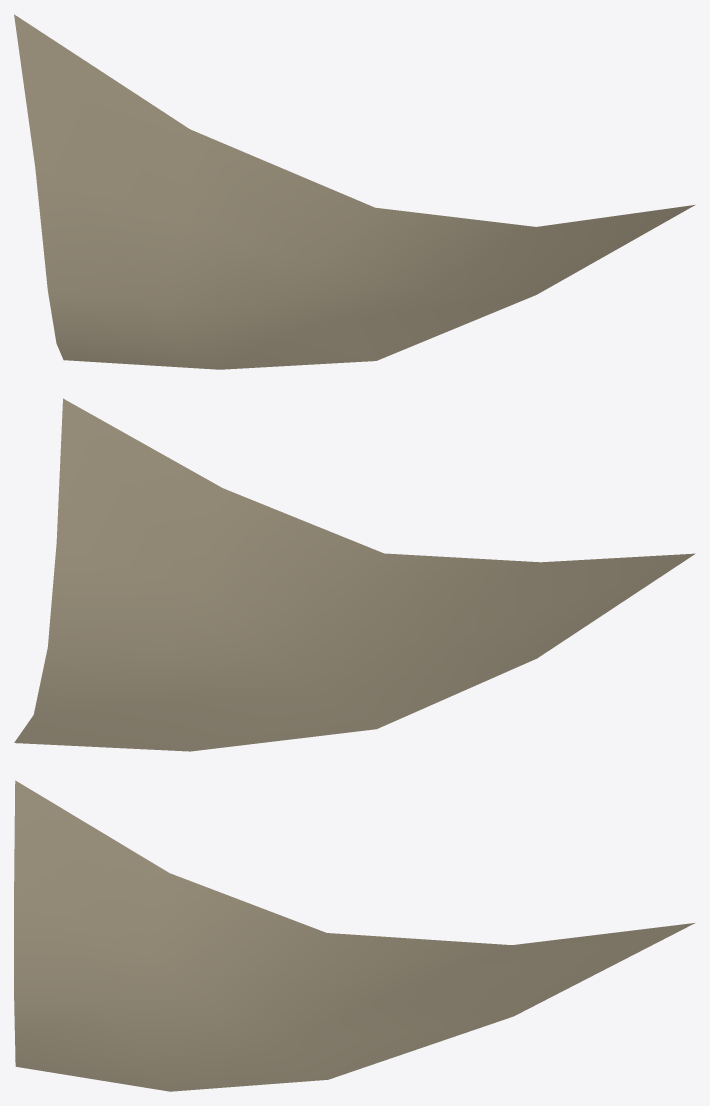
Rendered from savHubTent2.fbx.
3 views of the same model, one above another, from view 1: azimuth 30°, elevation 25°; view 2: azimuth 150°, elevation 25°; view 3: azimuth 270°, elevation 25° (orthographic). The views are drawn at different scales.
Parts seen in each view (by area): view 1: savHubTent2_LOD0; view 2: savHubTent2_LOD0; view 3: savHubTent2_LOD0.
Part boxes in pixels (box(x1,y1,x2,y2)): savHubTent2_LOD0: box(14, 14, 695, 369); savHubTent2_LOD0: box(14, 398, 695, 751); savHubTent2_LOD0: box(14, 780, 694, 1091).
Size of what is drawn, in the model's own units: 536 by 85.25 by 538.
